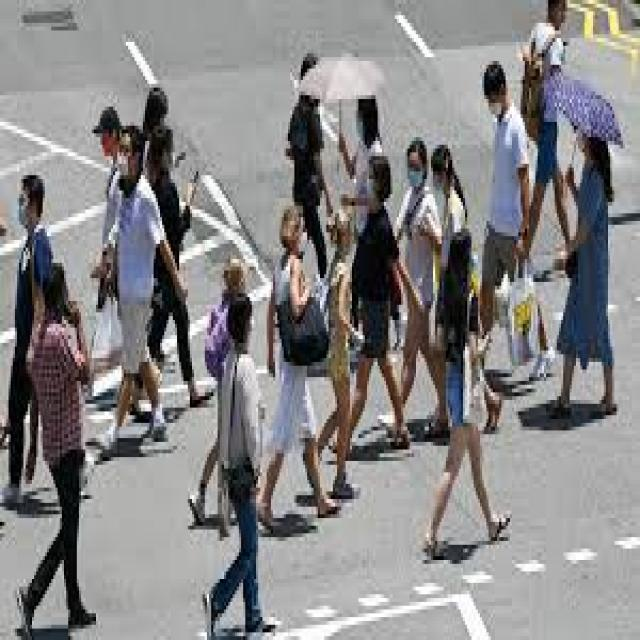Pedestrians: (13, 267, 102, 632), (94, 126, 188, 461), (420, 229, 510, 560), (194, 297, 280, 636), (256, 206, 339, 537), (471, 65, 557, 381), (544, 126, 625, 419), (339, 156, 412, 457)
